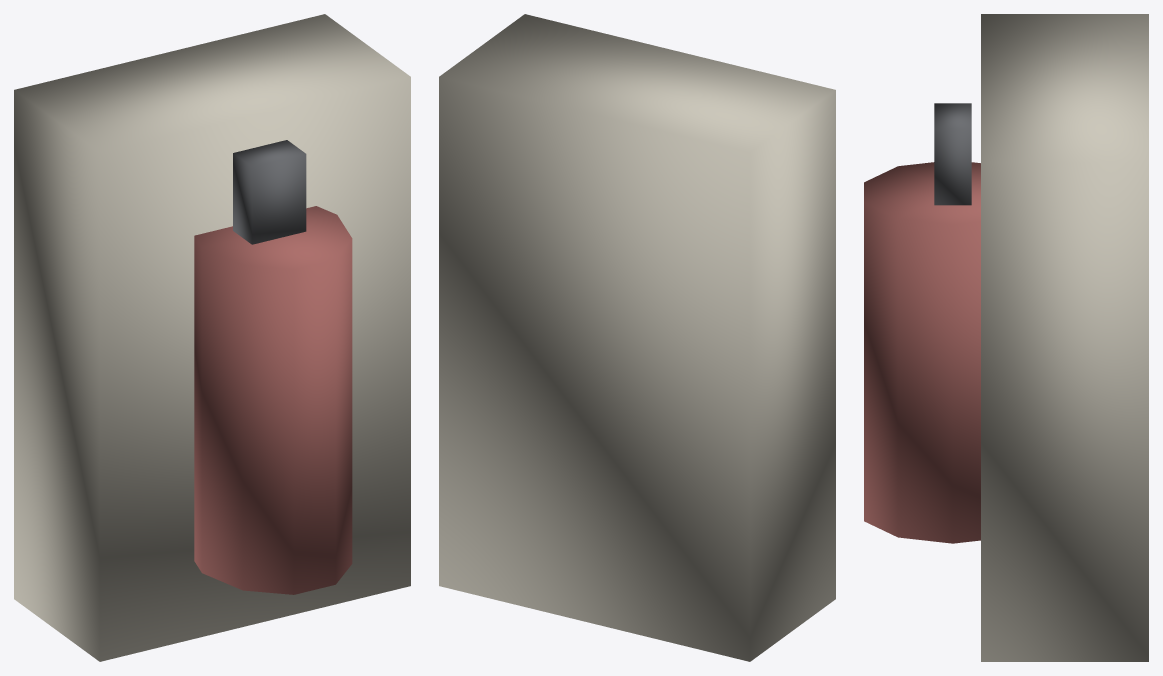
File: extinguisher_cabinet__deep.glb
The picture shows the model from 3 angles, left to right: view 1: azimuth 30°, elevation 25°; view 2: azimuth 150°, elevation 25°; view 3: azimuth 270°, elevation 25°; orthographic projection. The views are drawn at different scales.
Parts seen in each view (by area): view 1: world; view 2: world; view 3: world.
Boxes of the visible parts, <box> form: world: <box>14,14,410,661</box>; world: <box>439,14,835,661</box>; world: <box>864,14,1148,661</box>.
Bounding box in the file's own units: 0.46 × 0.72 × 0.3722.
